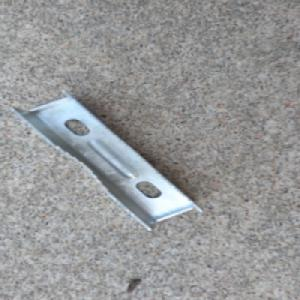ClampPart: (5, 87, 207, 232)
